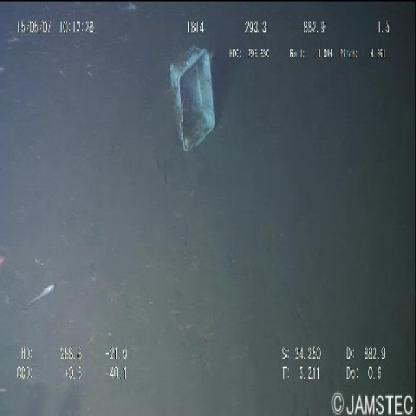Rác: (160, 31, 218, 159)
